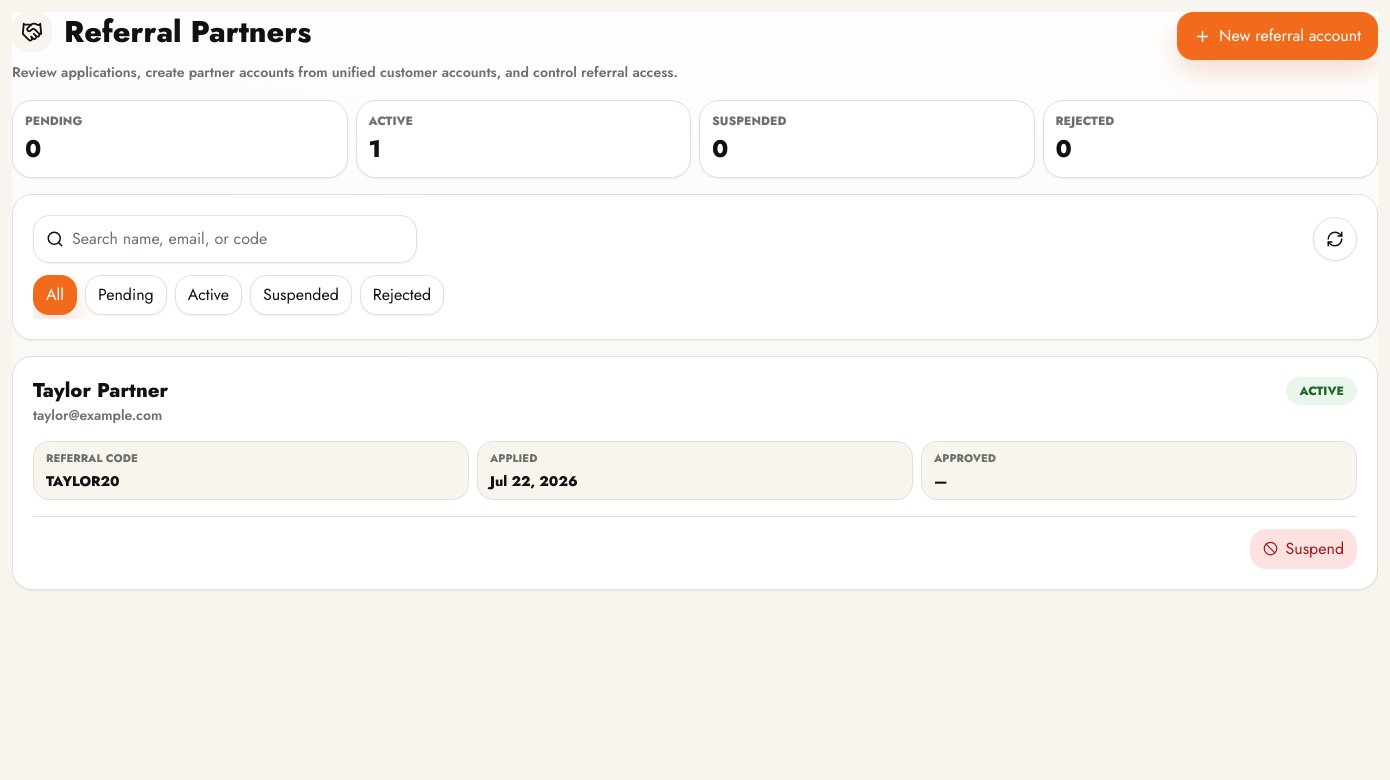
Test case: referral partner administration › can suspend an active referral account and updates the displayed status
Step 1. Click the button "Suspend" → (1303, 548), box [1250, 528, 1357, 568]
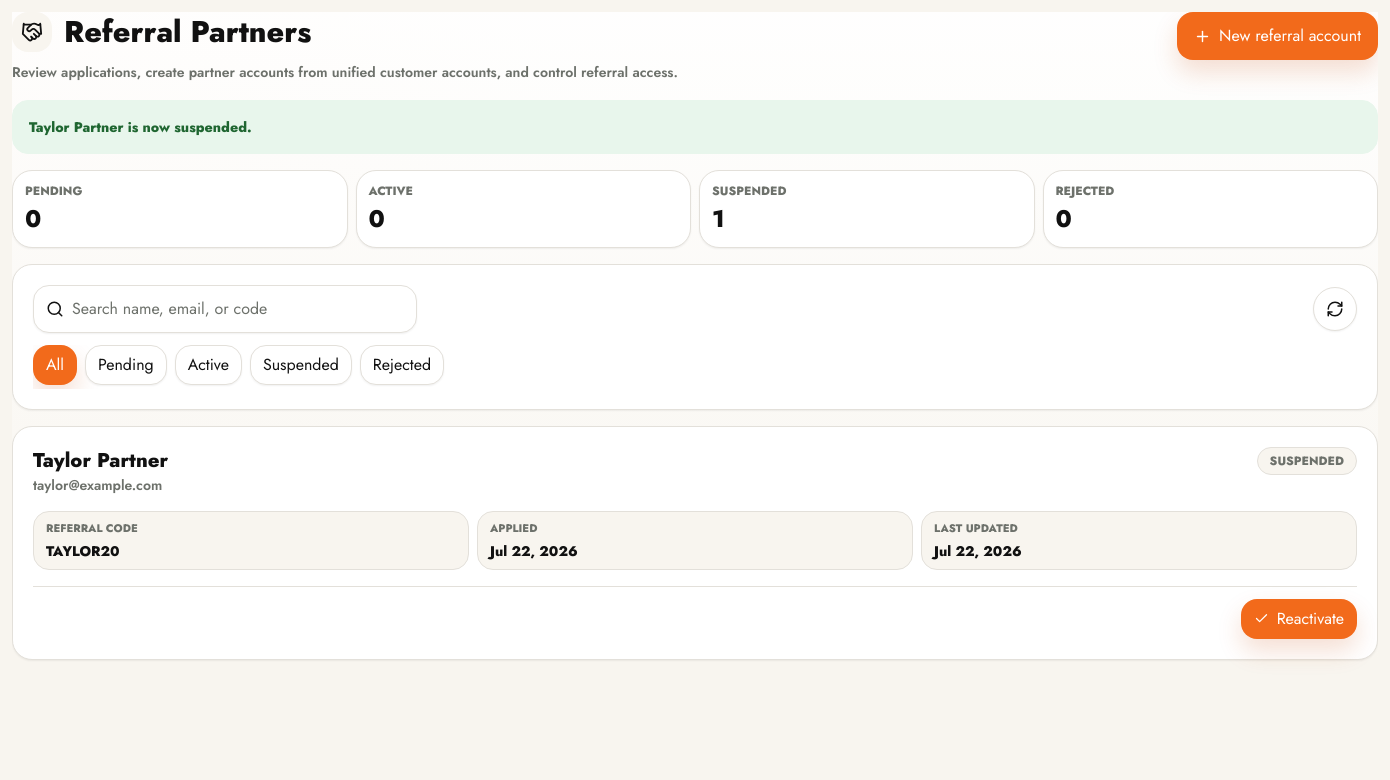
Result: the text "Taylor Partner is now suspended." is shown at [12, 100, 1378, 154]
Result: the button "Reactivate" is shown at [1241, 598, 1357, 638]
